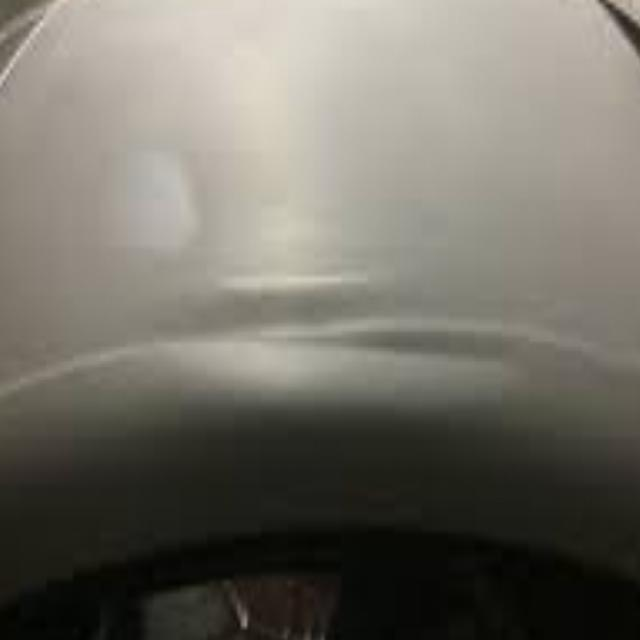dents: (120, 122, 206, 264)
